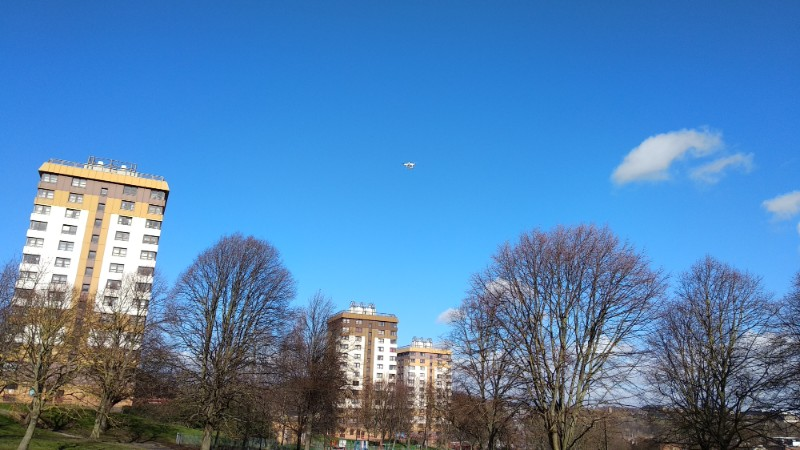drone: (402, 160, 417, 169)
